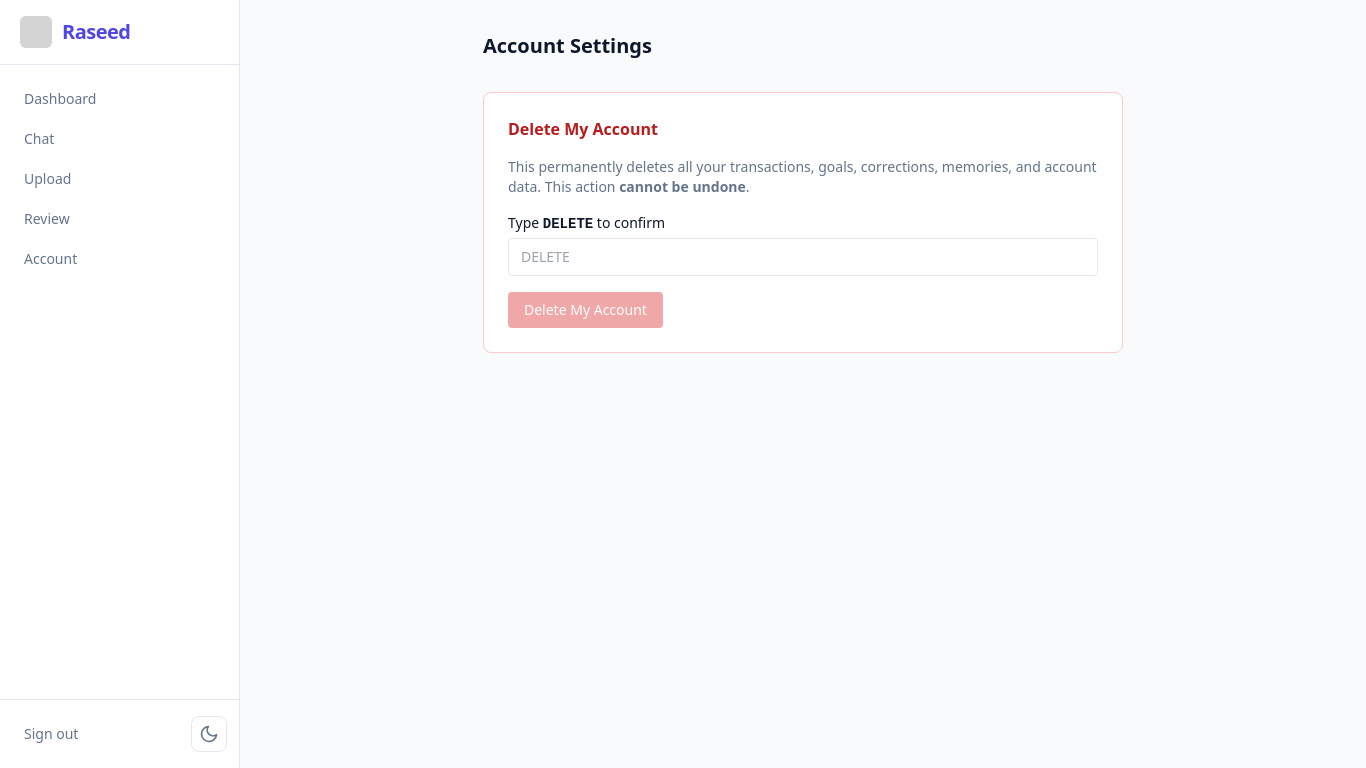
Account page › confirmation input blocks accidental deletion — button disabled until DELETE typed
The image size is (1366, 768).
Check: the button with test id "erasure-btn" is disabled, box [508,292,663,328]
Type "delete" into the field with test id "erasure-confirm-input" at (803, 257), box [508,238,1098,276]
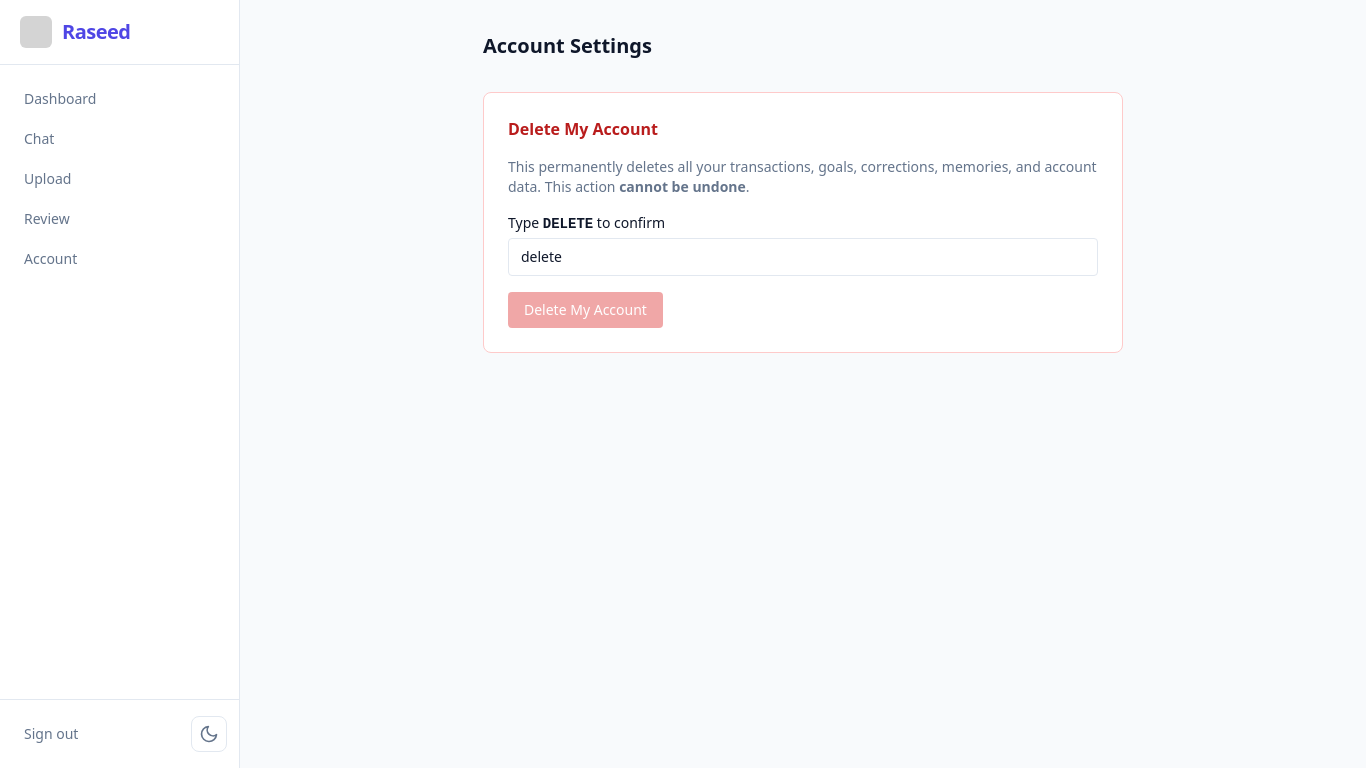
Check: the button with test id "erasure-btn" is disabled, box [508,292,663,328]
Replace the text in the field with test id "erasure-confirm-input" with "DELETE" at (803, 257), box [508,238,1098,276]
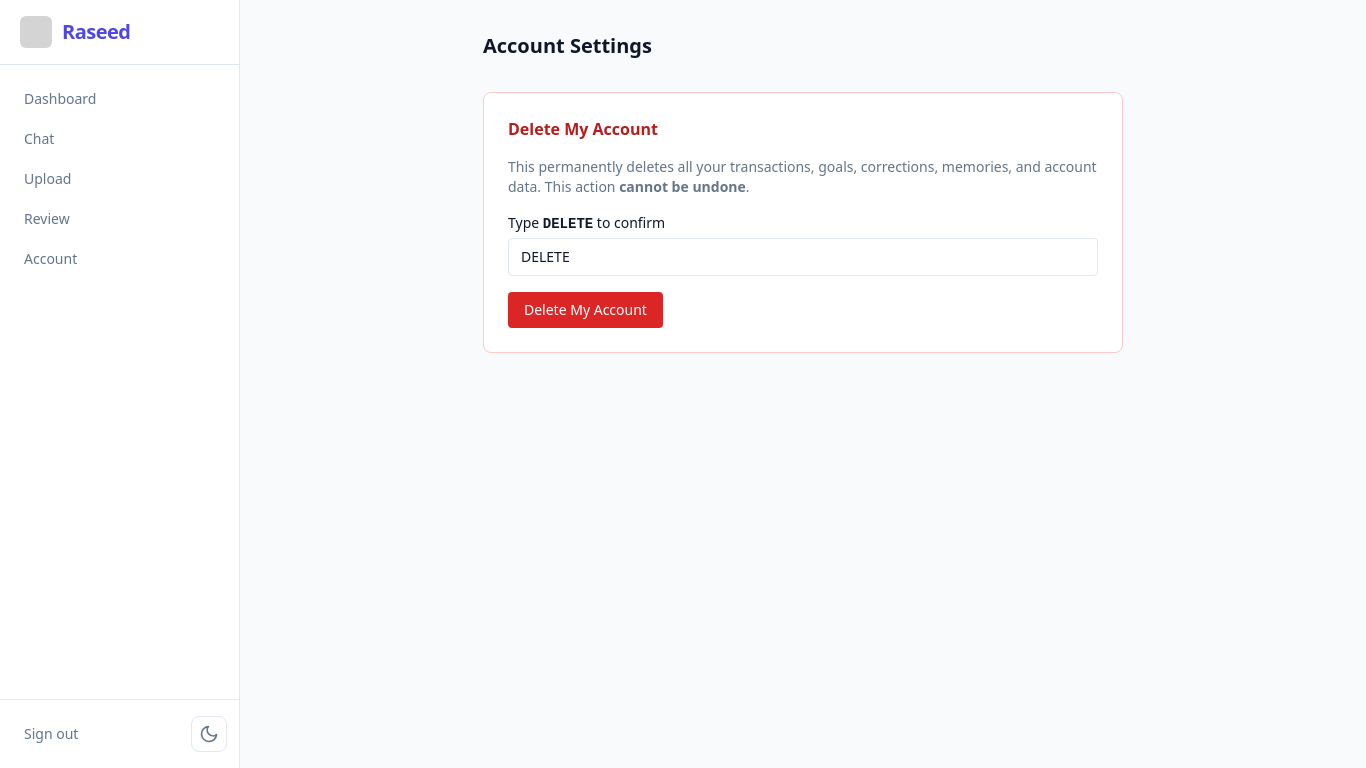
Check: the button with test id "erasure-btn" is enabled, box [508,292,663,328]
